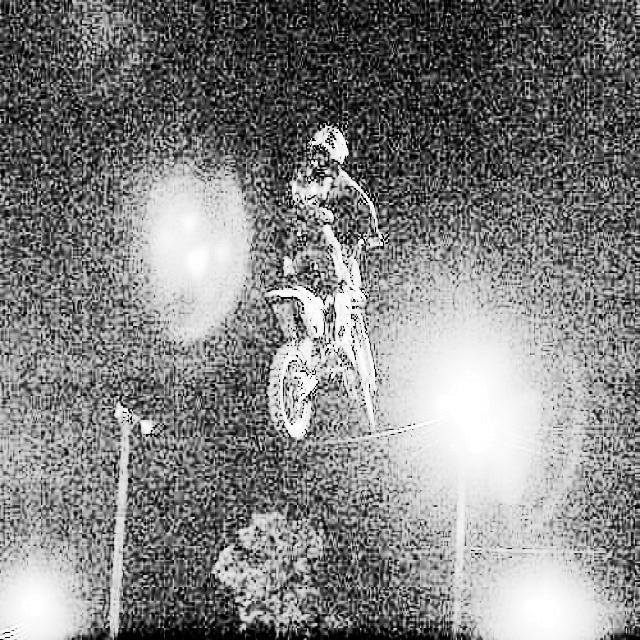Motorcycle: (264, 270, 394, 438)
